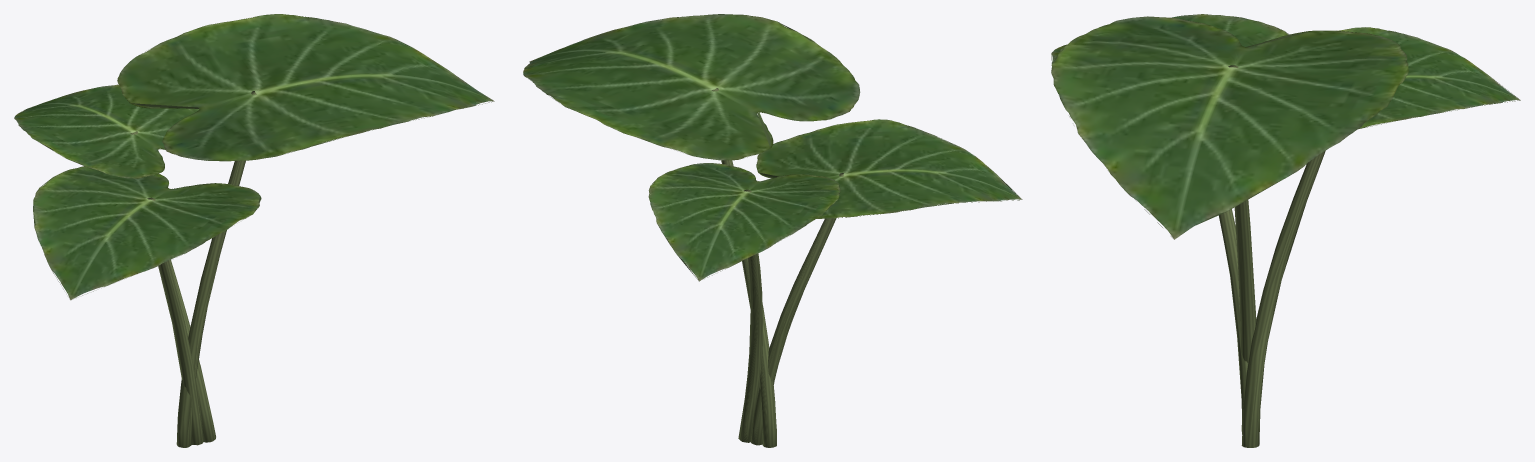
File: taro-macro-lite.glb
3 views of the same model, side by side, from view 1: azimuth 30°, elevation 25°; view 2: azimuth 150°, elevation 25°; view 3: azimuth 270°, elevation 25° (orthographic). The views are drawn at different scales.
Visible parts, largest first — view 1: leaf, petiole, leaf-edge; view 2: leaf, petiole, leaf-edge; view 3: leaf, petiole.
Part boxes in pixels (bbox=[...]): leaf: bbox=[14, 14, 494, 299]; petiole: bbox=[130, 91, 256, 447]; leaf-edge: bbox=[21, 14, 492, 295]; leaf: bbox=[523, 14, 1022, 281]; petiole: bbox=[711, 88, 843, 447]; leaf-edge: bbox=[523, 14, 1019, 281]; leaf: bbox=[1051, 14, 1520, 239]; petiole: bbox=[1218, 65, 1325, 447].
Bounding box in the file's own units: 0.639 × 0.4642 × 0.478.
Materials: 4 (3 with a texture image).
